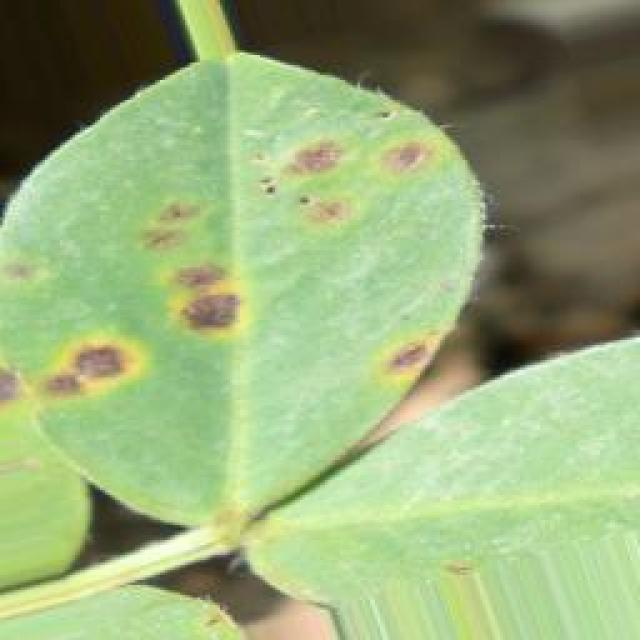Sigatoka: (15, 328, 140, 410), (163, 264, 249, 352), (362, 142, 438, 194), (274, 139, 357, 185), (383, 318, 434, 389), (134, 200, 198, 251), (292, 192, 356, 229)
